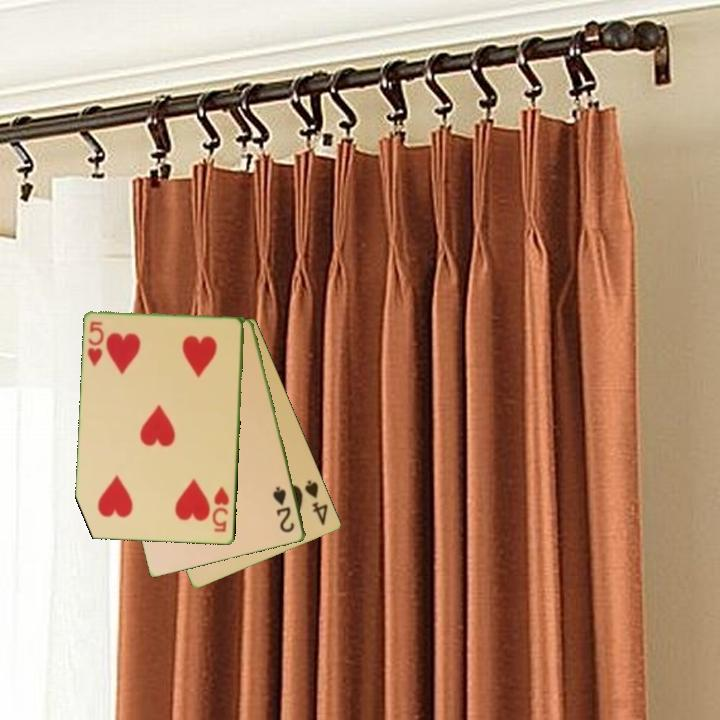2s: (269, 483, 298, 536)
4s: (301, 476, 331, 528)
5h: (209, 484, 233, 535), (84, 318, 107, 369)
